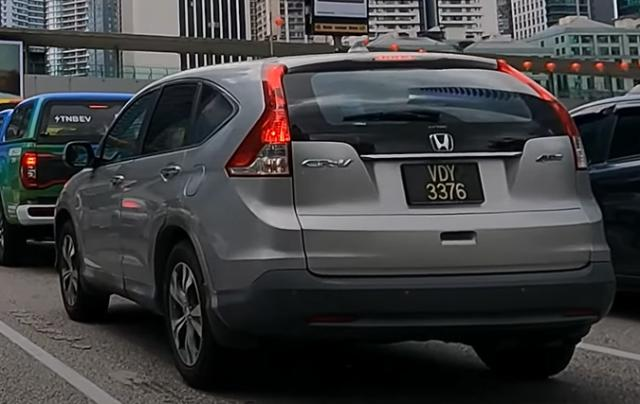License_Plate: (400, 161, 486, 208)
car: (54, 45, 619, 390)
